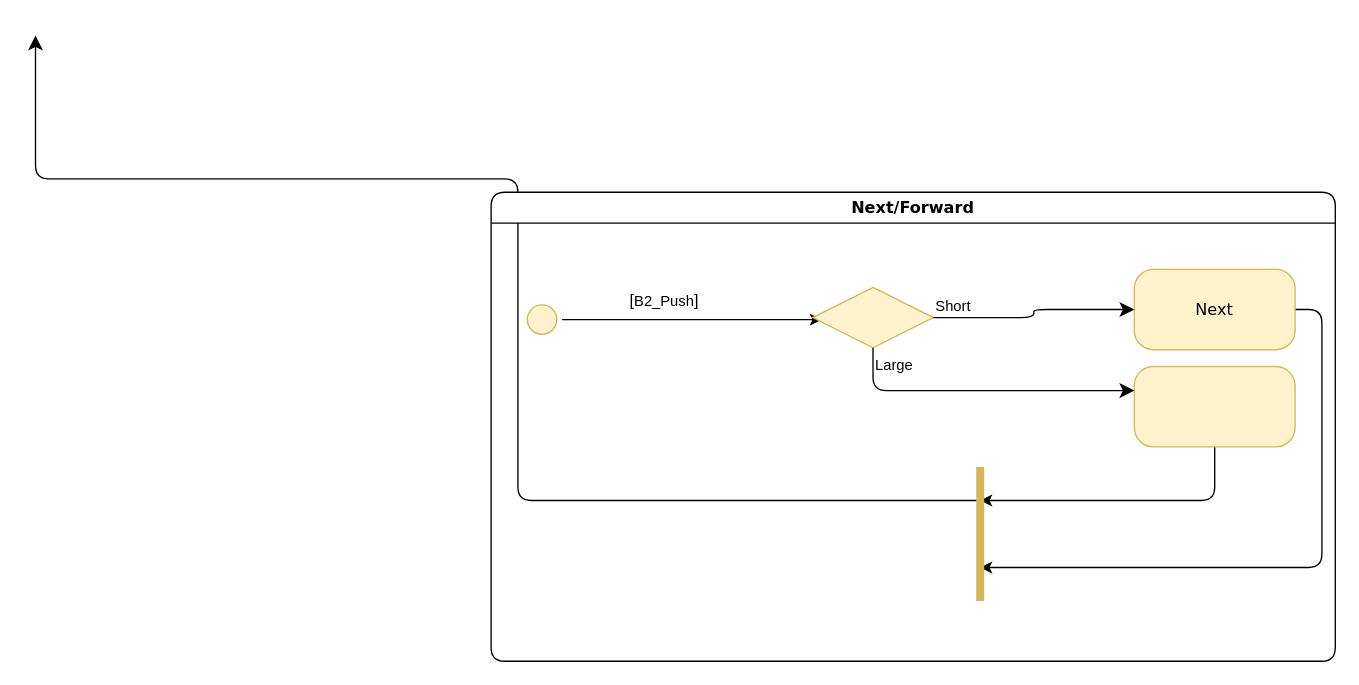
The diagram is 1359 pixels wide and 685 high, and some of its shapes have lost their labels. Here are the shapes that lost their labels. From the top down, the centre of each, then its label:
(x=872, y=317): Type of Push
(x=1214, y=406): Forward
